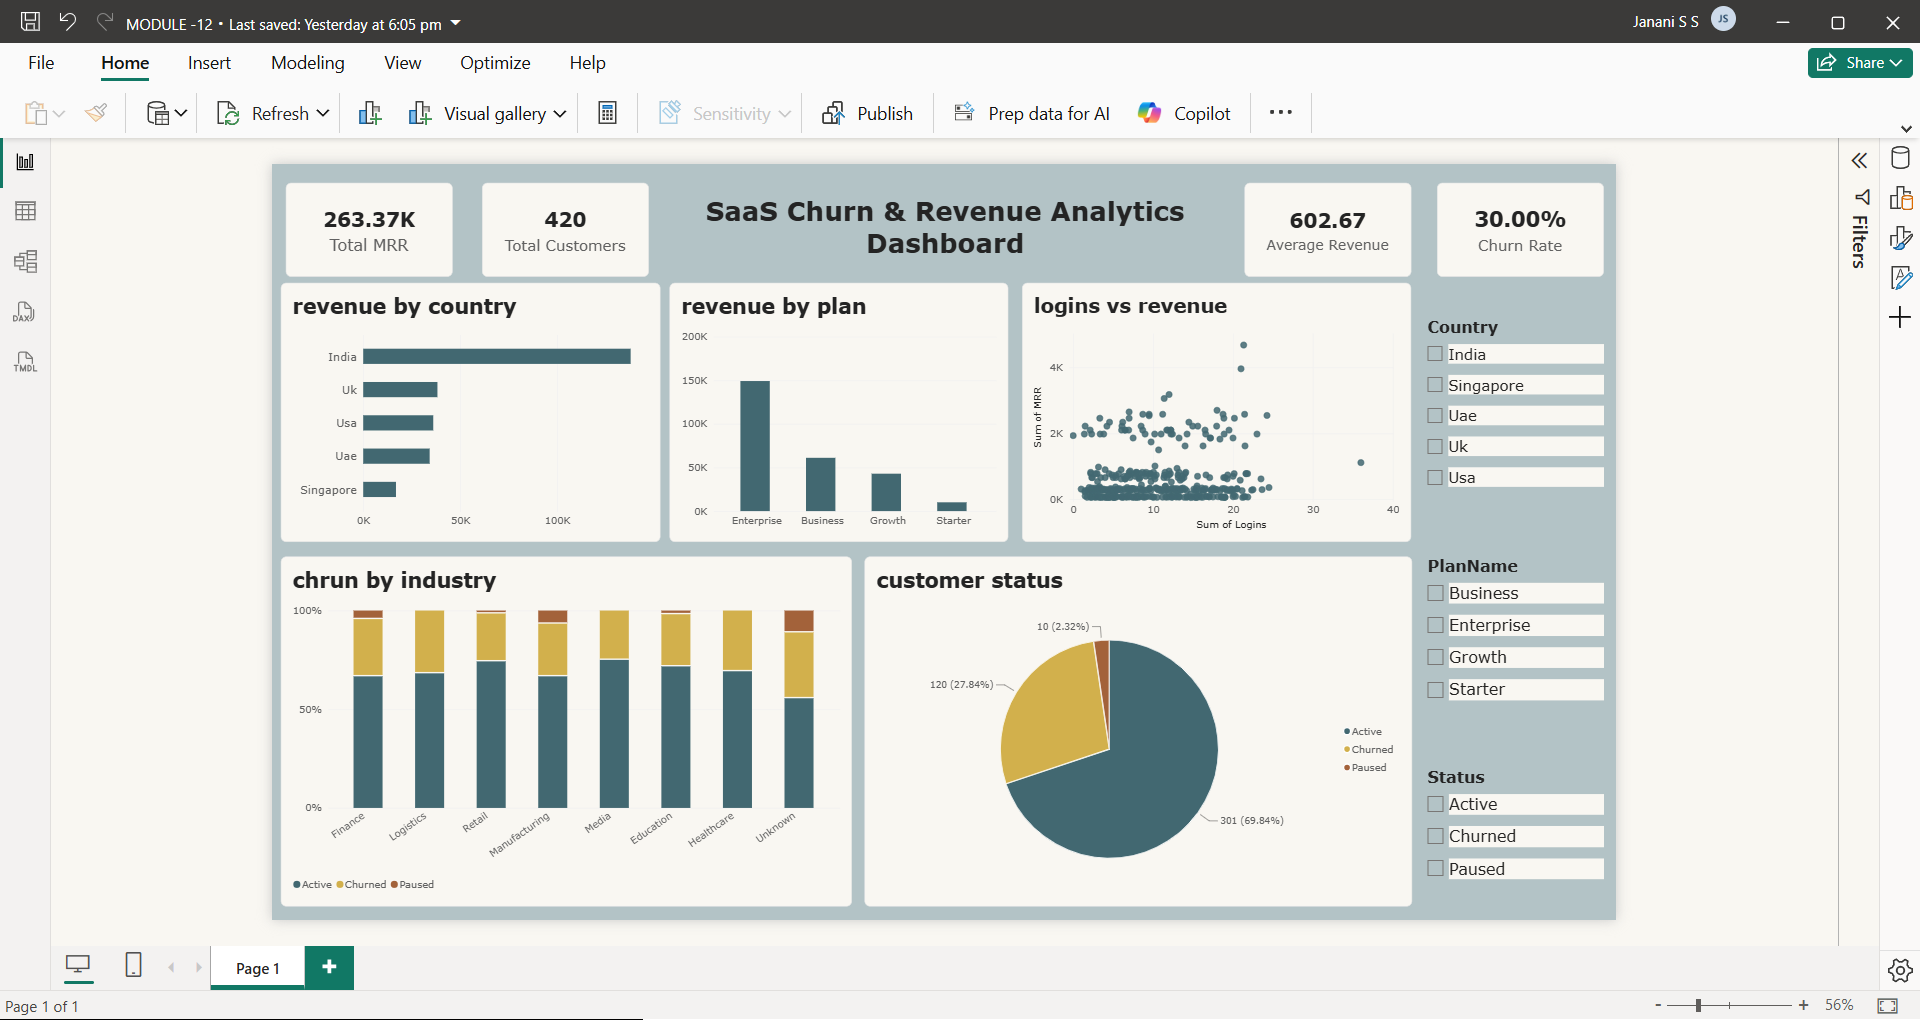

The dashboard page shown, as its layout file describes it:
{"tool":"powerbi","page":{"name":"Page 1","canvas":[1920,1080],"ordinal":0},"visuals":[{"type":"card","fields":{"Values":["Sheet1.Total MRR"]},"box":[0,26,238,134],"z":0},{"type":"card","fields":{"Values":["Sheet1.Total Customers"]},"box":[300,26,238,134],"z":1},{"type":"card","fields":{"Values":["Sheet1.Churn Rate"]},"box":[1682,26,238,134],"z":2},{"type":"card","fields":{"Values":["Sheet1.Average Revenue"]},"box":[1390,26,238,134],"z":3},{"type":"clusteredColumnChart","title":"revenue by plan","fields":{"Category":["Sheet1.PlanName"],"Y":["Sheet1.Total MRR"]},"box":[568,190,484,370],"z":4},{"type":"clusteredBarChart","title":"revenue by country","fields":{"Category":["Sheet1.Country"],"Y":["Sheet1.Total MRR"]},"box":[0,190,554,370],"z":5},{"type":"hundredPercentStackedColumnChart","title":"chrun by industry","fields":{"Category":["Sheet1.Industry"],"Series":["Sheet1.Status"],"Y":["Sheet1.Total Customers"]},"box":[0,578,816,500],"z":6},{"type":"pieChart","title":"customer status","fields":{"Category":["Sheet1.Status"],"Y":["Sheet1.Total Customers"]},"box":[846,578,782,500],"z":7},{"type":"scatterChart","title":"logins vs revenue","fields":{"Category":["Sheet1.CustomerID"],"X":["Sum(Sheet1.Logins)"],"Y":["Sum(Sheet1.MRR)"]},"box":[1072,190,556,370],"z":8},{"type":"slicer","fields":{"Values":["Sheet1.Country"]},"box":[1642,190,278,270],"z":9},{"type":"slicer","fields":{"Values":["Sheet1.PlanName"]},"box":[1642,512,278,225],"z":10},{"type":"slicer","fields":{"Values":["Sheet1.Status"]},"box":[1642,800,278,280],"z":11},{"type":"textbox","box":[554,26,816,134],"z":12}]}

Visuals, with their boxes on the page's 1920x1080 design canvas (x1, y1, x2, y2). These are canvas units, not pixel positions in the 1920x1020 screenshot, which may show the page scaled, cropped or inside an application window:
card - Sheet1.Total MRR: (0,26,238,160)
card - Sheet1.Total Customers: (300,26,538,160)
card - Sheet1.Churn Rate: (1682,26,1920,160)
card - Sheet1.Average Revenue: (1390,26,1628,160)
"revenue by plan" clusteredColumnChart: (568,190,1052,560)
"revenue by country" clusteredBarChart: (0,190,554,560)
"chrun by industry" hundredPercentStackedColumnChart: (0,578,816,1078)
"customer status" pieChart: (846,578,1628,1078)
"logins vs revenue" scatterChart: (1072,190,1628,560)
slicer - Sheet1.Country: (1642,190,1920,460)
slicer - Sheet1.PlanName: (1642,512,1920,737)
slicer - Sheet1.Status: (1642,800,1920,1080)
textbox: (554,26,1370,160)
